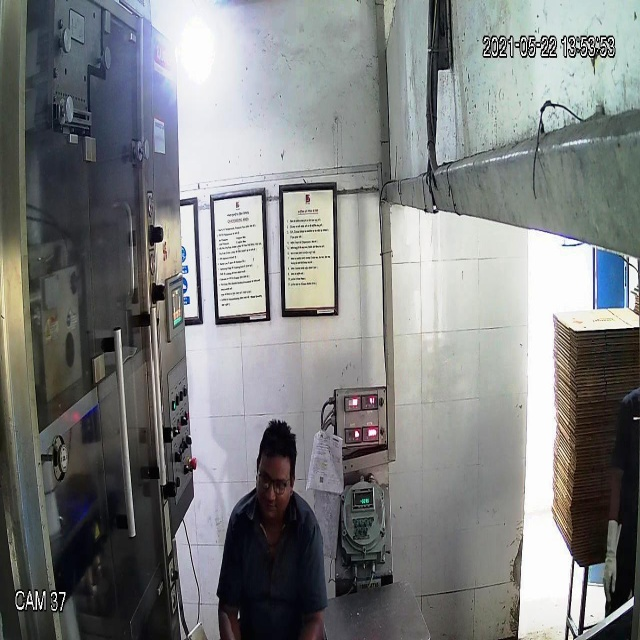Gafas: (248, 459, 297, 500)
